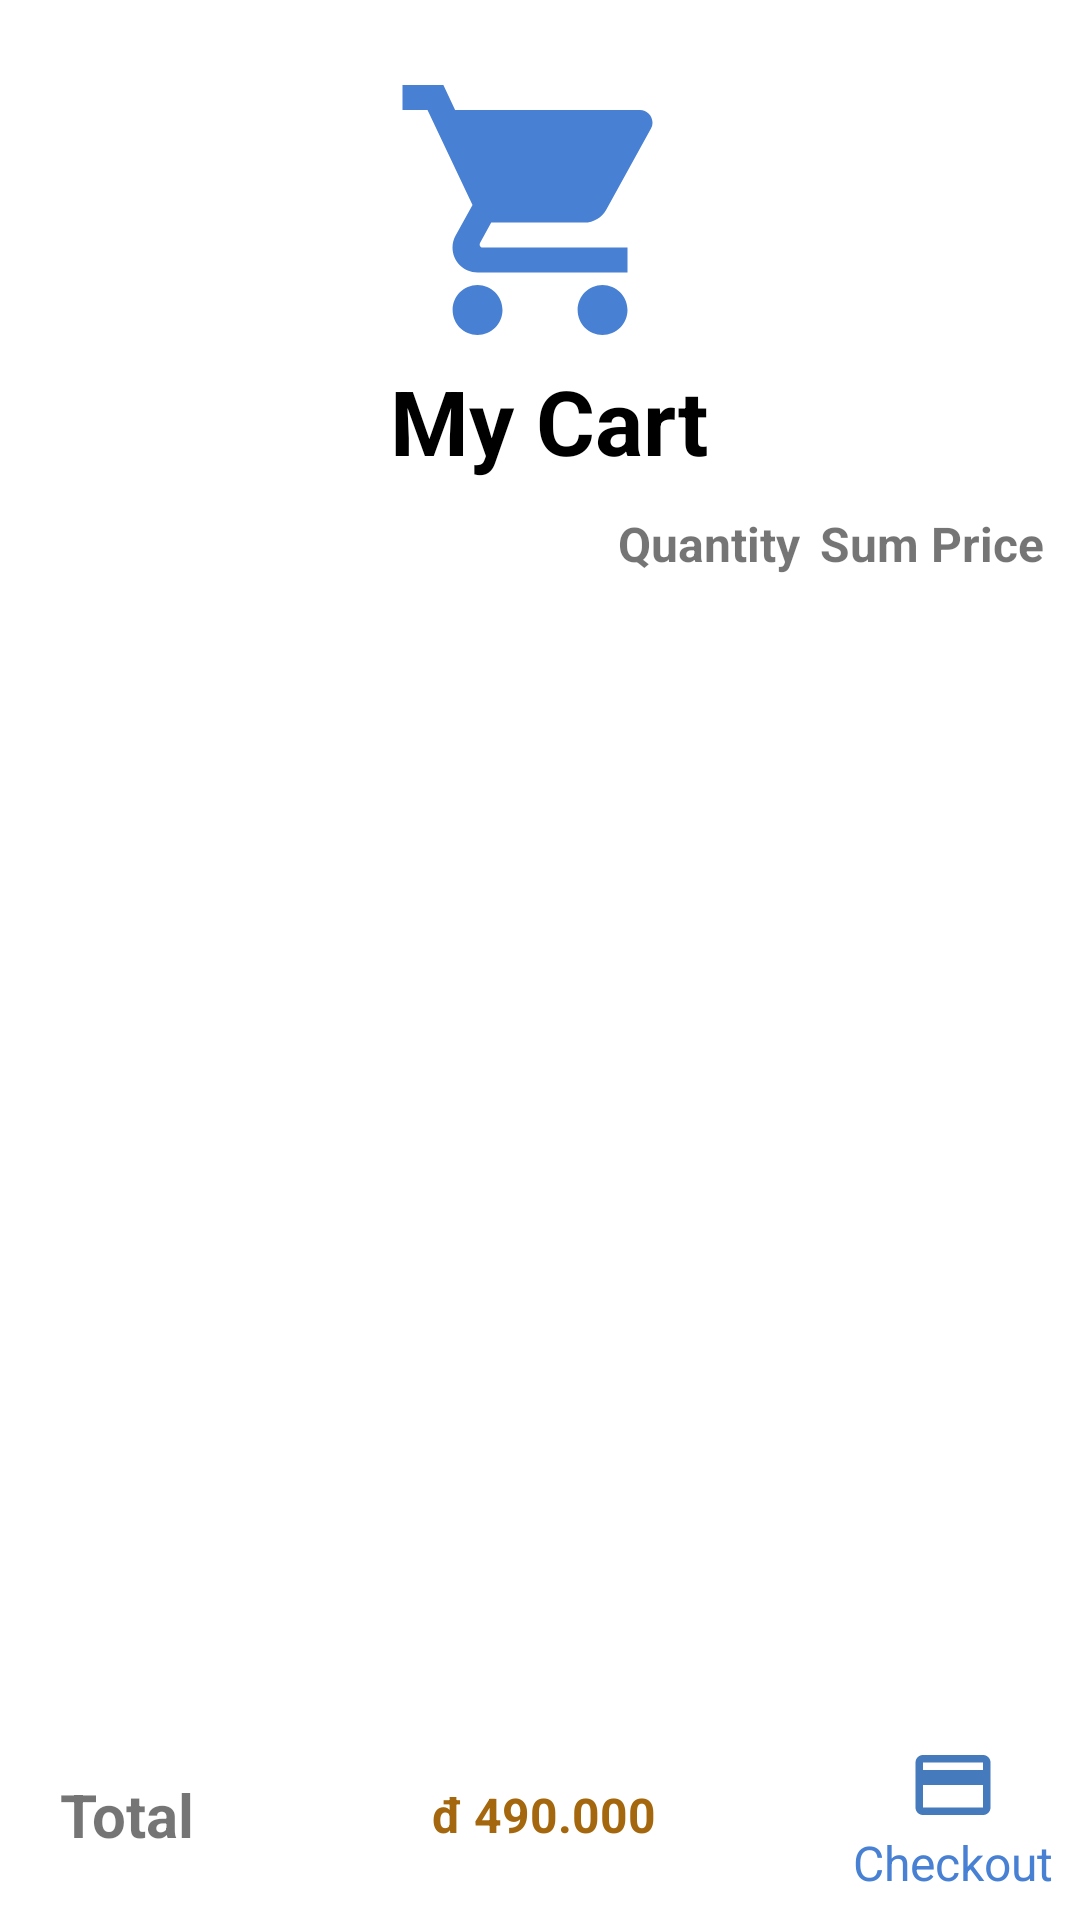

Icon bounding boxes for this 1080px×1920px phone screenshot, format BBox(x1, y1, x2, y2):
credit card: BBox(915, 1755, 991, 1815)
shopping cart: BBox(402, 85, 653, 335)
